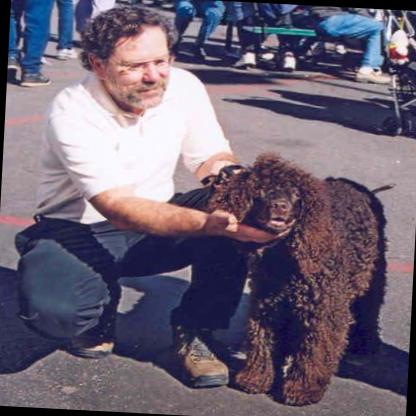Irish_water_spaniel: (194, 152, 396, 406)
